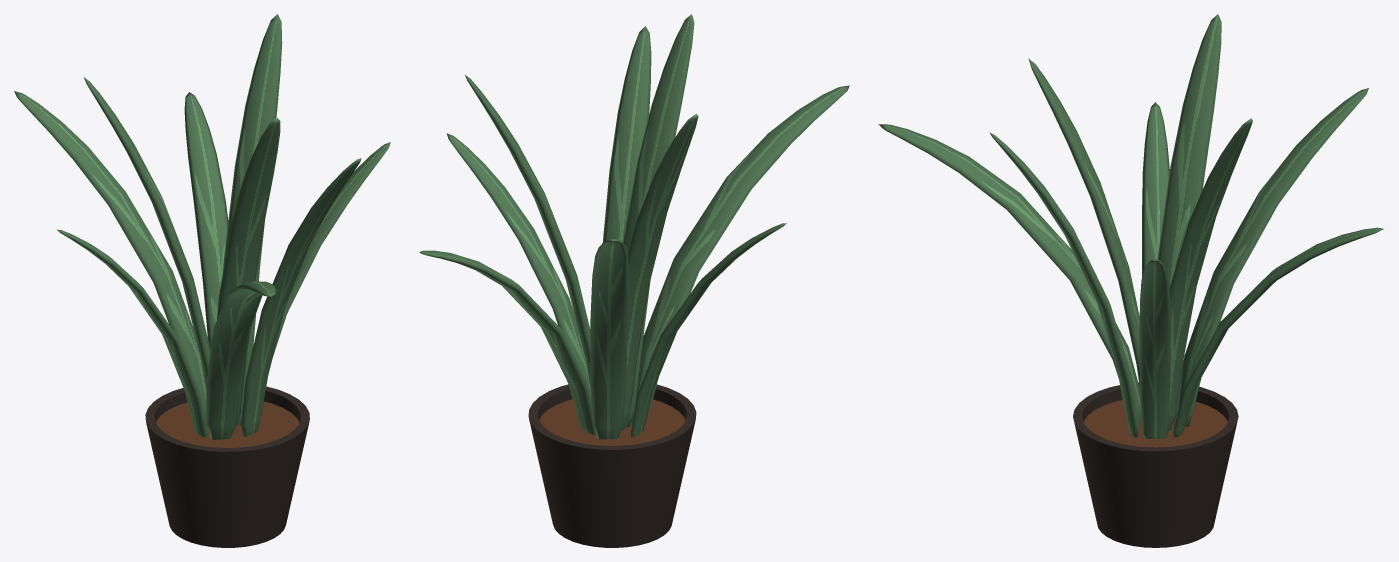
Rendered from Vaso_de_Planta.fbx.
3 renders of one model, left to right at view 1: azimuth 30°, elevation 25°; view 2: azimuth 150°, elevation 25°; view 3: azimuth 270°, elevation 25°, orthographic. The views are drawn at different scales.
Visible parts, largest first — view 1: Vaso, Planta.004, Planta.001, Planta.003, Planta.002, Planta.006, Planta.007, Planta.008, Planta.005, Planta; view 2: Vaso, Planta.003, Planta.004, Planta.008, Planta.006, Planta.002, Planta, Planta.001, Planta.007, Planta.005; view 3: Vaso, Planta.008, Planta.004, Planta.003, Planta.007, Planta, Planta.006, Planta.002, Planta.005, Planta.001.
Boxes of the visible parts, x1=… form: Vaso: x1=145, y1=386, x2=309, y2=547; Planta.004: x1=14, y1=91, x2=206, y2=422; Planta.001: x1=184, y1=92, x2=228, y2=349; Planta.003: x1=206, y1=281, x2=276, y2=439; Planta.002: x1=241, y1=158, x2=361, y2=436; Planta.006: x1=217, y1=117, x2=280, y2=431; Planta.007: x1=223, y1=14, x2=282, y2=425; Planta.008: x1=83, y1=77, x2=210, y2=389; Planta.005: x1=57, y1=229, x2=207, y2=437; Planta: x1=272, y1=142, x2=390, y2=357; Vaso: x1=528, y1=384, x2=696, y2=547; Planta.003: x1=631, y1=85, x2=849, y2=422; Planta.004: x1=590, y1=239, x2=628, y2=439; Planta.008: x1=621, y1=113, x2=698, y2=430; Planta.006: x1=622, y1=14, x2=694, y2=427; Planta.002: x1=602, y1=26, x2=651, y2=242; Planta: x1=446, y1=133, x2=590, y2=396; Planta.001: x1=419, y1=250, x2=595, y2=434; Planta.007: x1=464, y1=74, x2=590, y2=389; Planta.005: x1=630, y1=223, x2=786, y2=436; Vaso: x1=1073, y1=382, x2=1238, y2=547; Planta.008: x1=1157, y1=14, x2=1221, y2=424; Planta.004: x1=1176, y1=88, x2=1368, y2=426; Planta.003: x1=878, y1=124, x2=1141, y2=422; Planta.007: x1=1168, y1=118, x2=1252, y2=431; Planta: x1=1139, y1=259, x2=1170, y2=438; Planta.006: x1=1028, y1=58, x2=1139, y2=387; Planta.002: x1=989, y1=132, x2=1138, y2=437; Planta.005: x1=1142, y1=102, x2=1169, y2=276; Planta.001: x1=1173, y1=227, x2=1383, y2=437.
Size of the model in its own units: 468 by 610 by 611.
3 materials, 1 textured.
